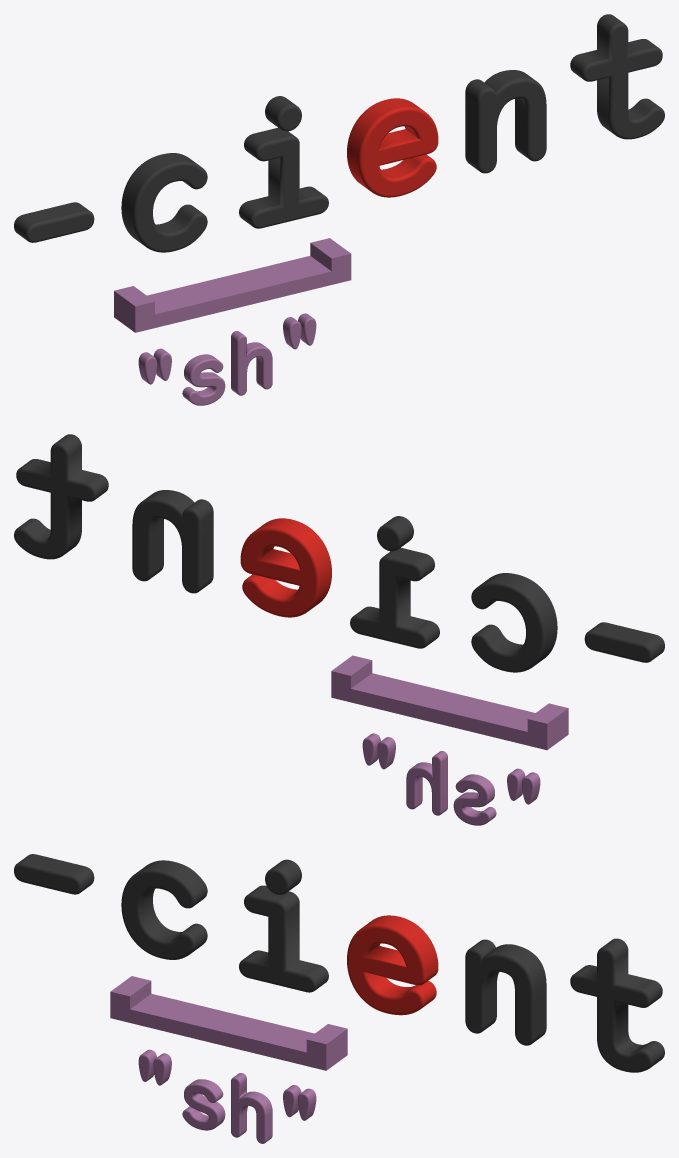
The model's file is -cient.gltf.
3 renders of one model, top to bottom at view 1: azimuth 30°, elevation 25°; view 2: azimuth 150°, elevation 25°; view 3: azimuth 330°, elevation 25°, orthographic.
Visible parts, largest first — view 1: Cube.000, Text.005, Text.003, Text.004, Text.002, Text, Text.001; view 2: Cube.000, Text.005, Text.003, Text.004, Text.002, Text, Text.001; view 3: Cube.000, Text.005, Text.003, Text.004, Text.002, Text, Text.001.
Part boxes in pixels (x1,y1,x2,y2): Cube.000: [114, 238, 351, 332]; Text.005: [14, 153, 207, 252]; Text.003: [347, 98, 438, 197]; Text.004: [570, 14, 664, 139]; Text.002: [465, 70, 546, 173]; Text: [239, 96, 328, 228]; Text.001: [138, 313, 316, 405]; Cube.000: [331, 655, 568, 750]; Text.005: [471, 573, 664, 672]; Text.003: [240, 518, 331, 617]; Text.004: [14, 434, 108, 559]; Text.002: [132, 490, 213, 593]; Text: [350, 516, 439, 648]; Text.001: [362, 733, 540, 825]; Cube.000: [110, 976, 347, 1070]; Text.005: [14, 854, 207, 959]; Text.003: [347, 915, 438, 1015]; Text.004: [570, 938, 664, 1072]; Text.002: [465, 939, 546, 1045]; Text: [239, 859, 328, 992]; Text.001: [138, 1049, 316, 1143].
Bounding box in the file's own units: 3.29 × 1.4 × 0.1906.
